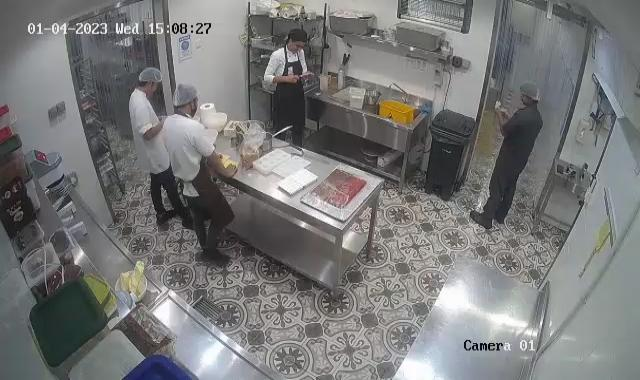hairnet: (173, 83, 197, 111), (138, 65, 162, 88), (521, 80, 541, 105)
no_hairnet: (287, 29, 308, 52)
